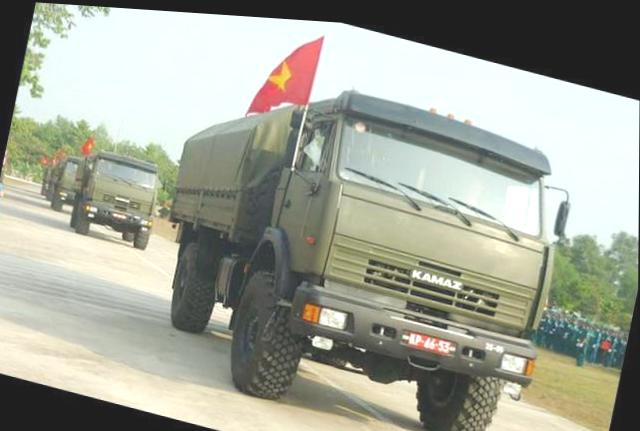License_Plate: (404, 325, 455, 360)
